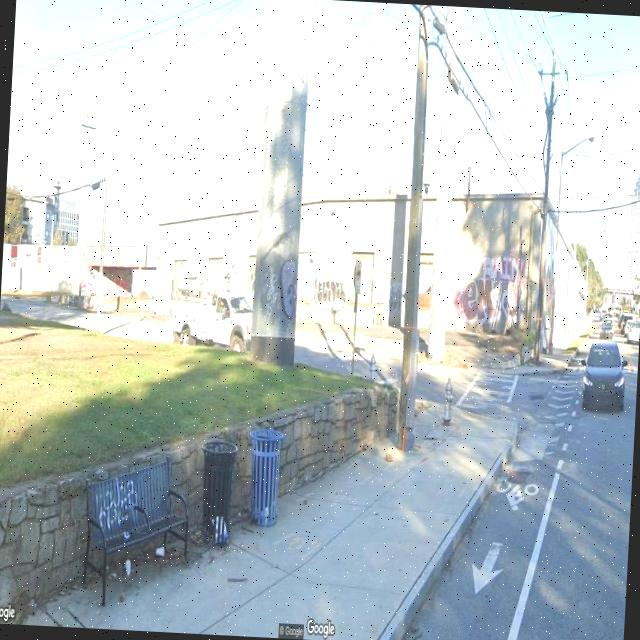seating: (80, 445, 194, 611)
trash_can: (197, 440, 239, 548), (244, 428, 284, 528)
